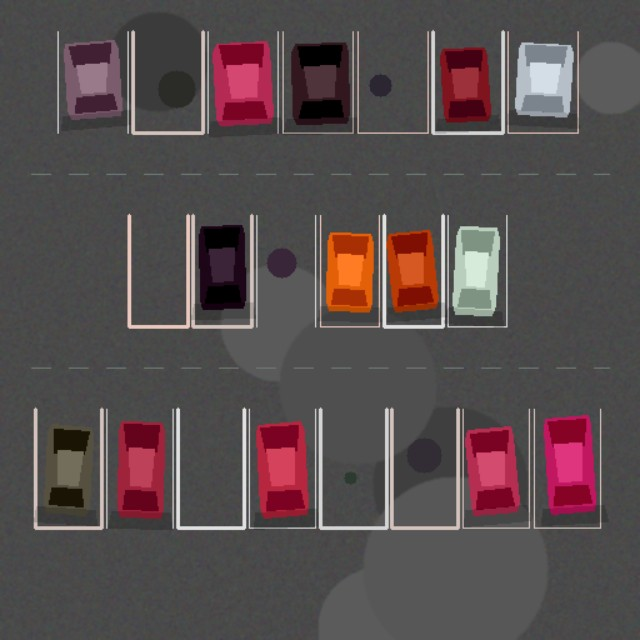space-empty: (391, 409, 458, 527), (178, 409, 244, 527), (320, 409, 386, 527), (133, 31, 203, 133), (357, 31, 427, 133), (256, 215, 315, 326), (129, 215, 187, 326)
space-occupied: (462, 409, 529, 527), (35, 409, 101, 527), (106, 409, 172, 527), (249, 409, 315, 527), (534, 409, 600, 527), (57, 31, 127, 133), (207, 31, 277, 133), (283, 31, 353, 133), (433, 31, 503, 133), (507, 31, 577, 133), (320, 215, 379, 326), (384, 215, 443, 326), (447, 215, 506, 326), (193, 215, 251, 326)
